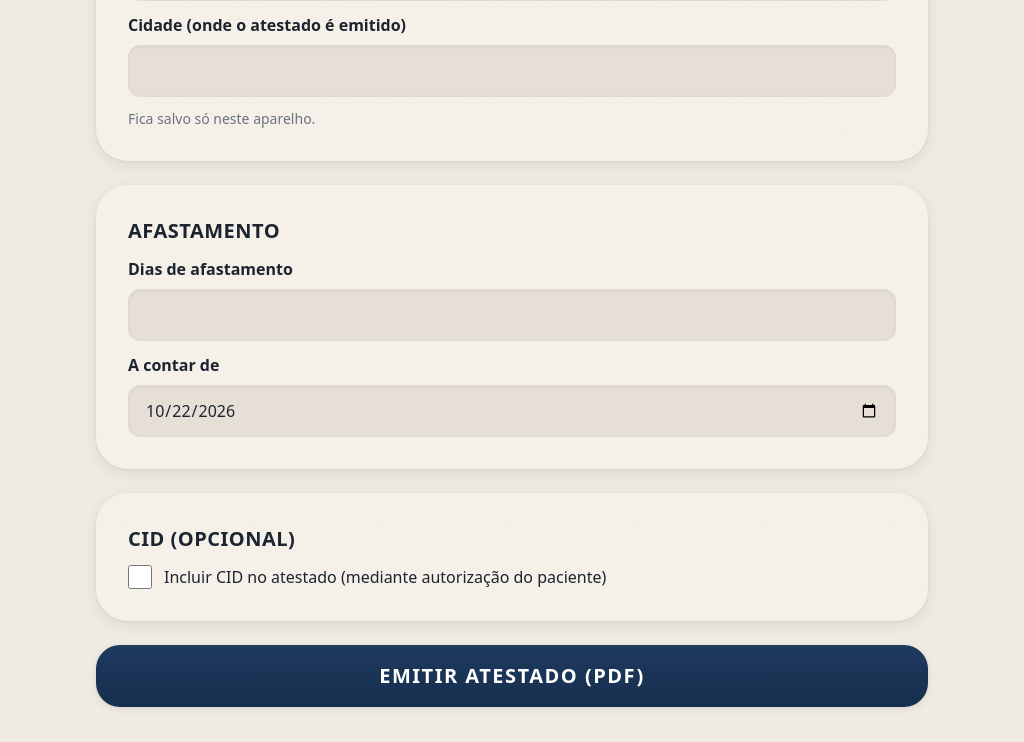
Test: tela de atestado › CID vem do diagnóstico selecionado, mas só entra no PDF se o médico marcar a autorização
This screenshot has width=1024, height=742.
(page scrolled)
Click the checkbox labelled "Incluir CID no atestado (mediante autorização do paciente)". click: coordinates (140, 577)
box: [128,565,152,589]
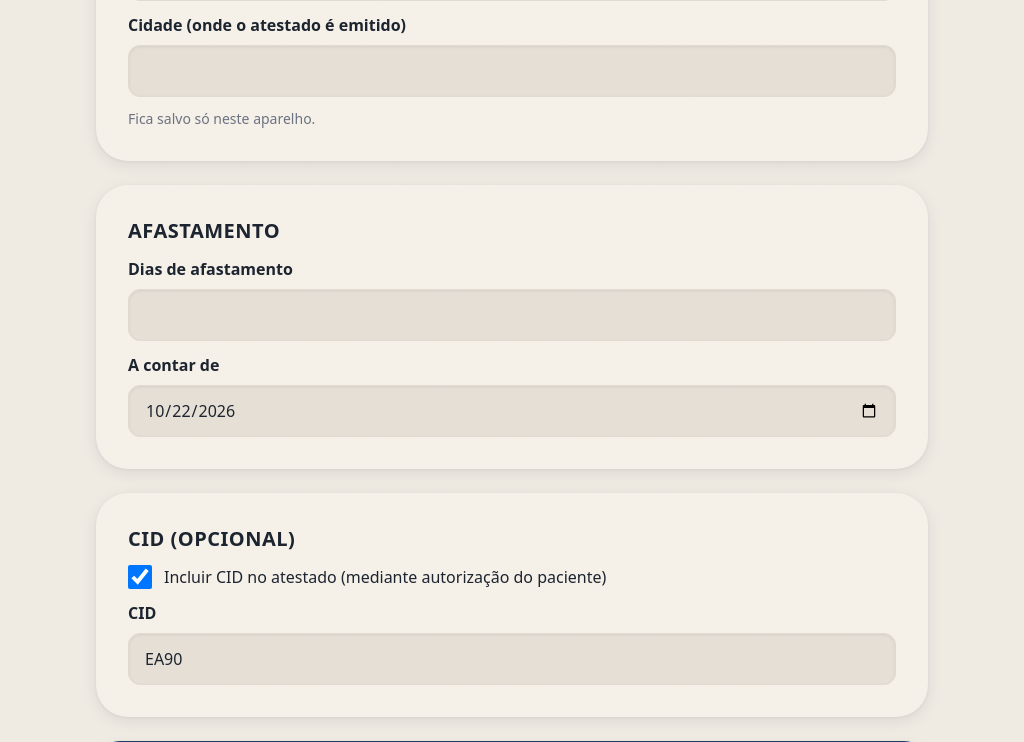
Expected: the field labelled "CID" holds "EA90", [128,633,896,685]
